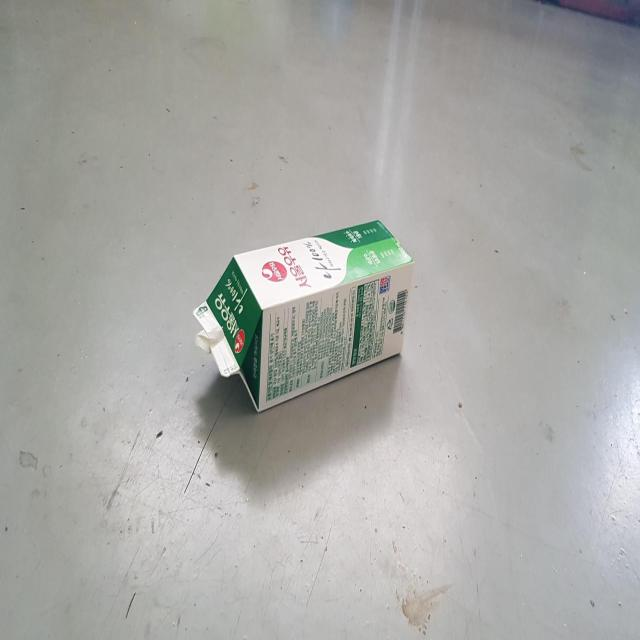paperpack: (193, 219, 413, 410)
